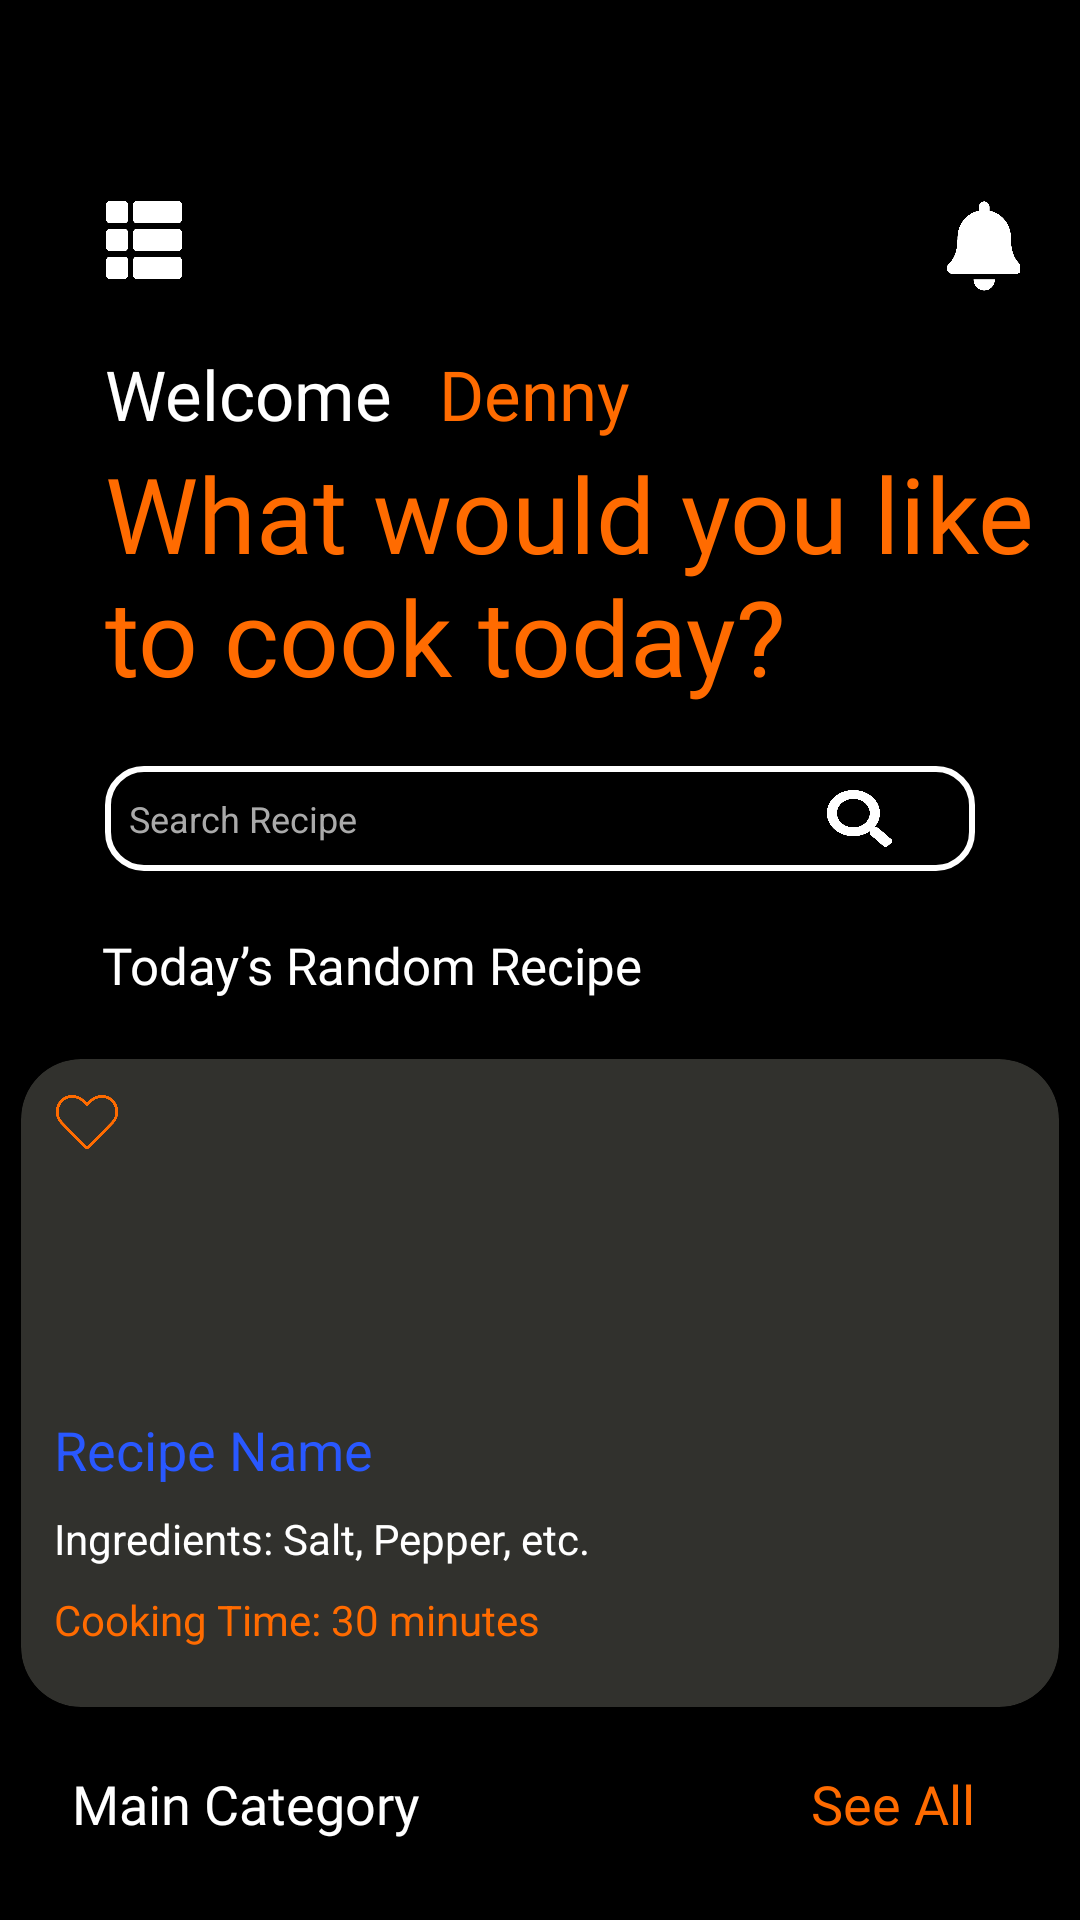

Locate icon controls on the screen. Image size 1080px×1920px, boxes as (x1, y1, x2, y2).
alert: (947, 201, 1020, 291)
fav: (56, 1095, 118, 1149)
